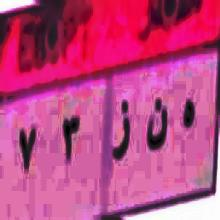3: (60, 107, 83, 178)
7: (16, 120, 39, 174)
haa: (180, 91, 196, 140)
noon: (145, 97, 169, 158)
zay: (108, 94, 134, 166)
